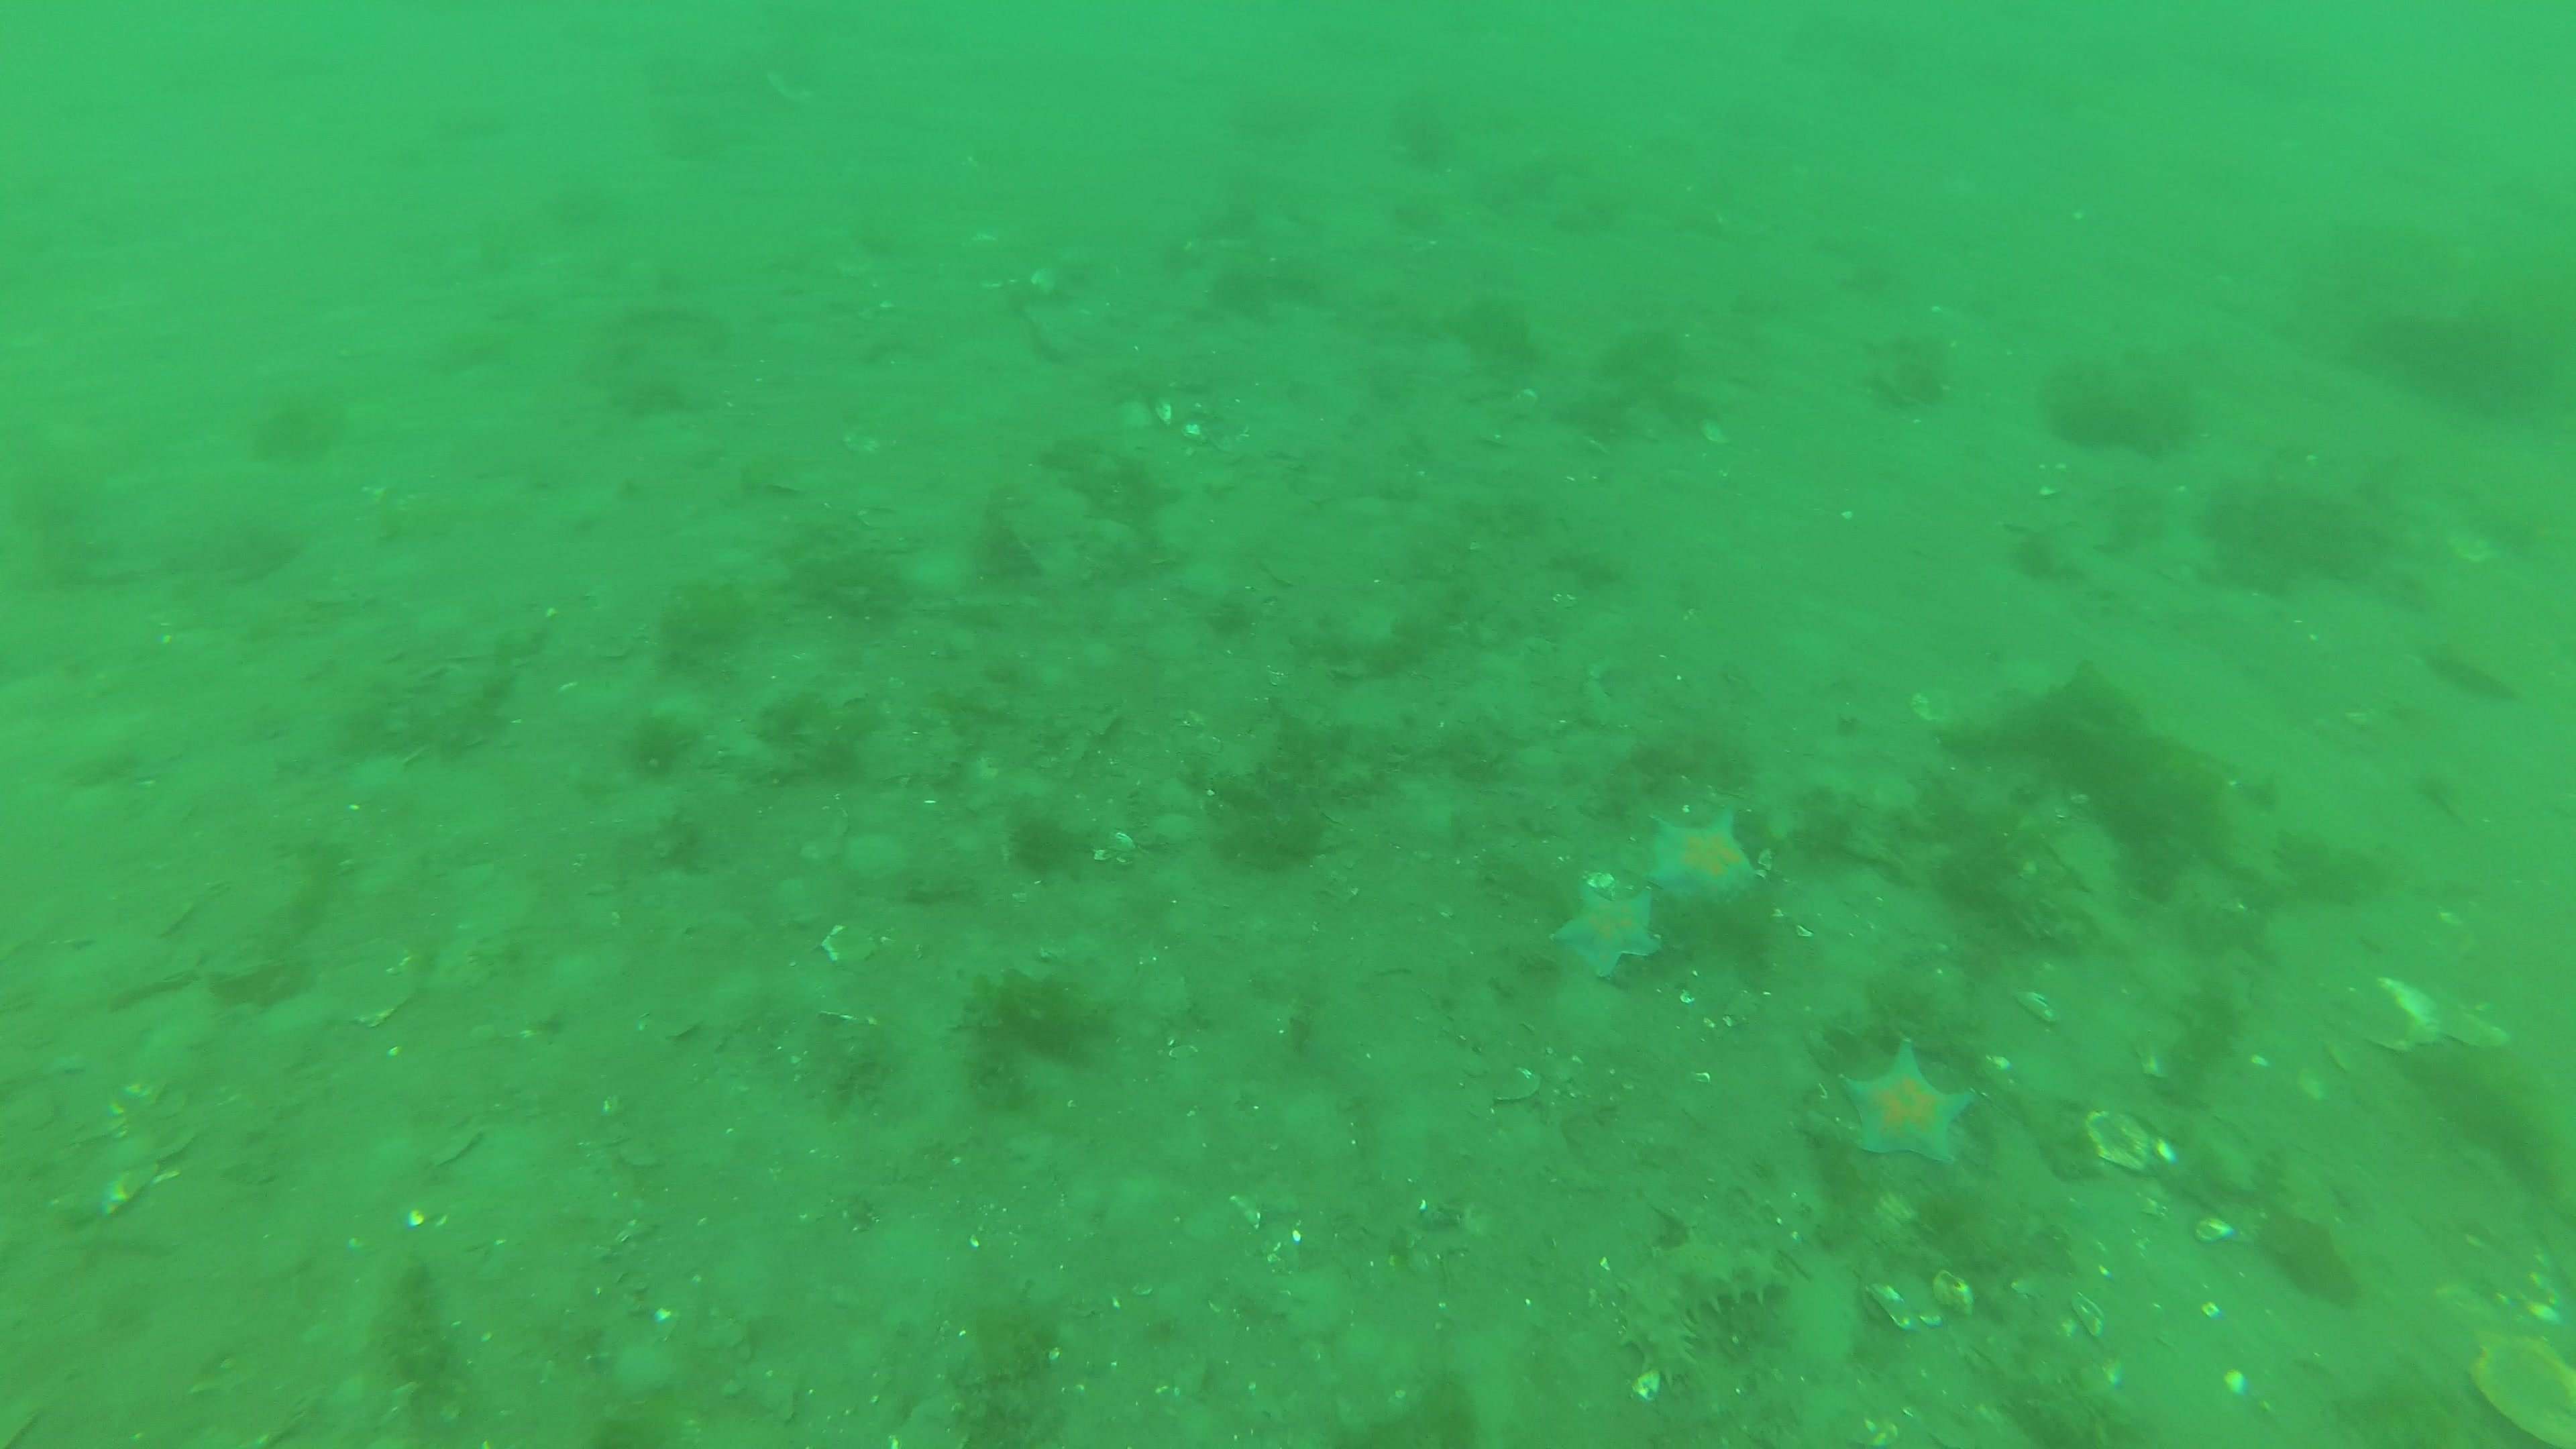holothurian: (1614, 1223, 1785, 1387)
scallop: (2468, 1322, 2576, 1449)
starfish: (1833, 1035, 1980, 1164), (1637, 801, 1762, 911), (1546, 874, 1665, 980)
